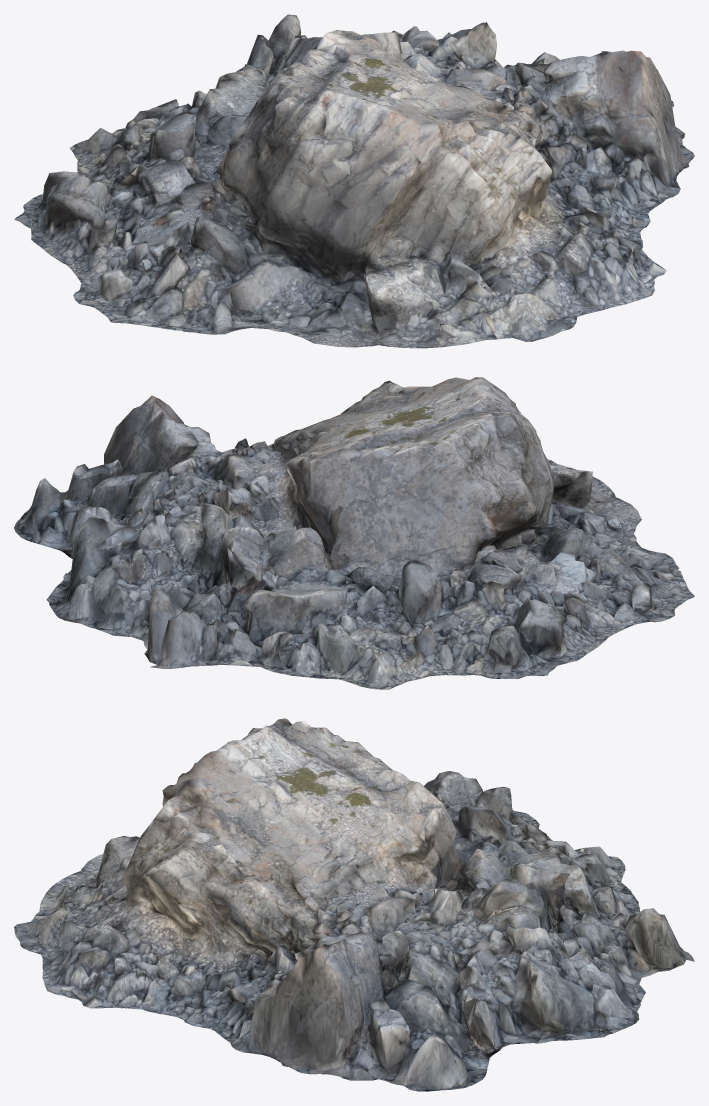
File: rock_formation2.glb
The picture shows the model from 3 angles, top to bottom: view 1: azimuth 30°, elevation 25°; view 2: azimuth 150°, elevation 25°; view 3: azimuth 270°, elevation 25°; orthographic projection. The views are drawn at different scales.
Parts seen in each view (by area): view 1: Low Poly Alpine Rock; view 2: Low Poly Alpine Rock; view 3: Low Poly Alpine Rock.
Part boxes in pixels (x1,y1,x2,y2): Low Poly Alpine Rock: (14,14,694,348); Low Poly Alpine Rock: (14,377,694,689); Low Poly Alpine Rock: (14,718,694,1091).
Bounding box in the file's own units: 9.3 × 2.5 × 8.75.
1 material, 1 textured.
